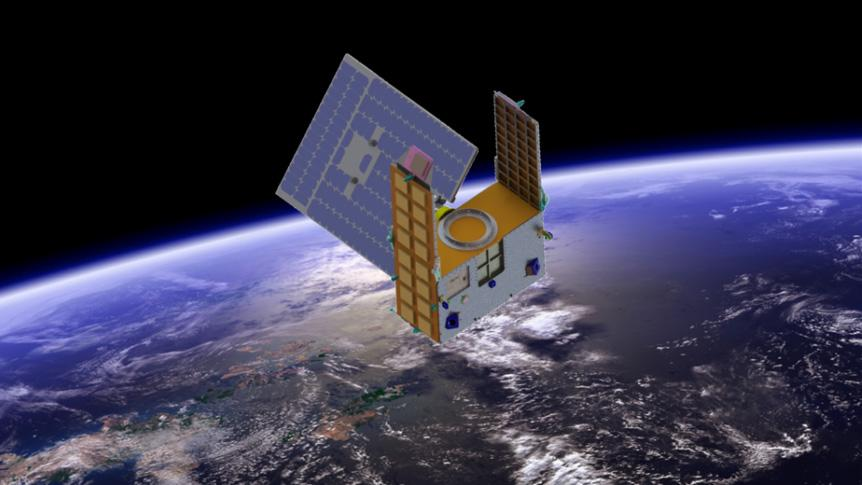body: (394, 178, 547, 346)
solar: (273, 50, 481, 283)
